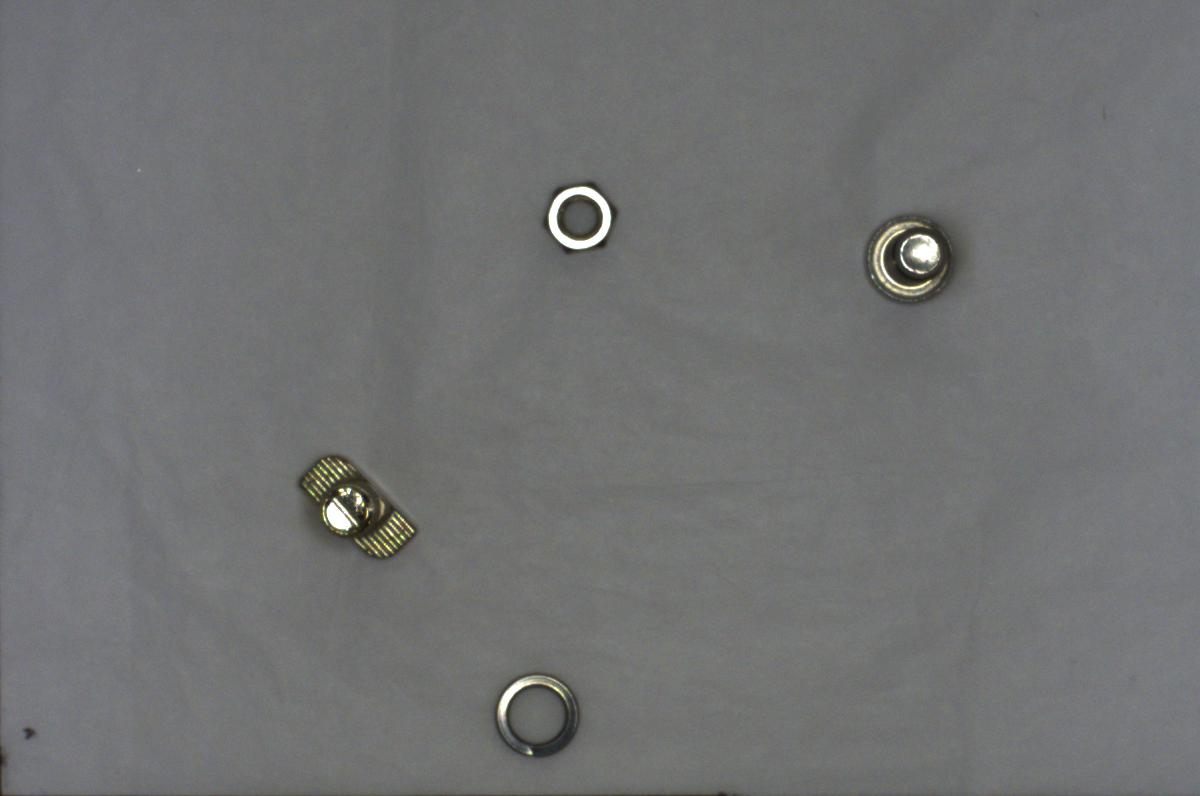Hexagon nut: (541, 176, 622, 260)
Hexagon screw: (851, 205, 972, 312)
Spring washer: (482, 667, 598, 761)
T-shaped screw: (287, 447, 434, 565)
